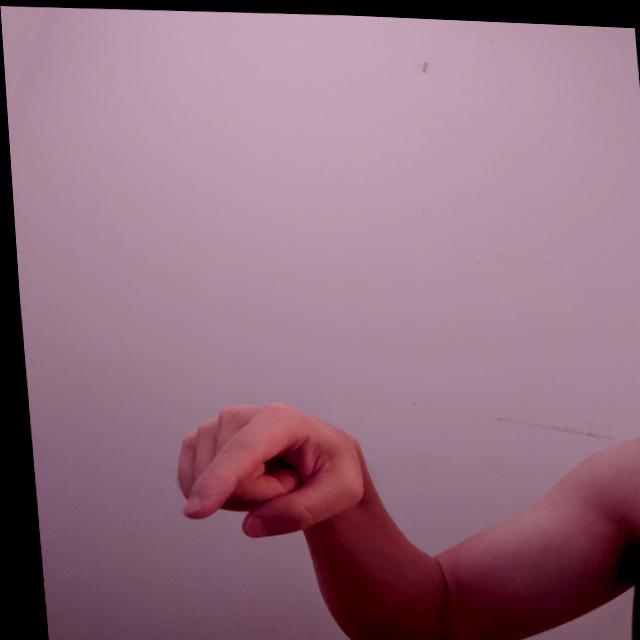Z: (155, 390, 369, 546)
